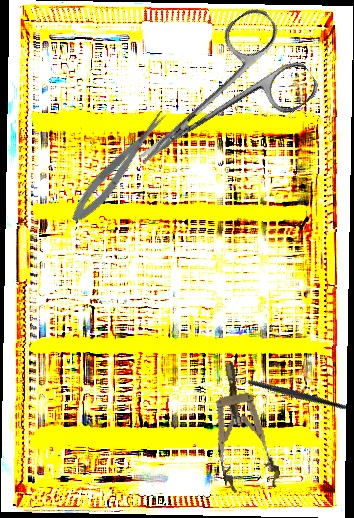Chopper: (225, 341, 348, 448)
Iris Scissors: (106, 2, 324, 201)
Micro Scissor: (65, 107, 174, 228)
Speculum: (202, 357, 283, 497)
